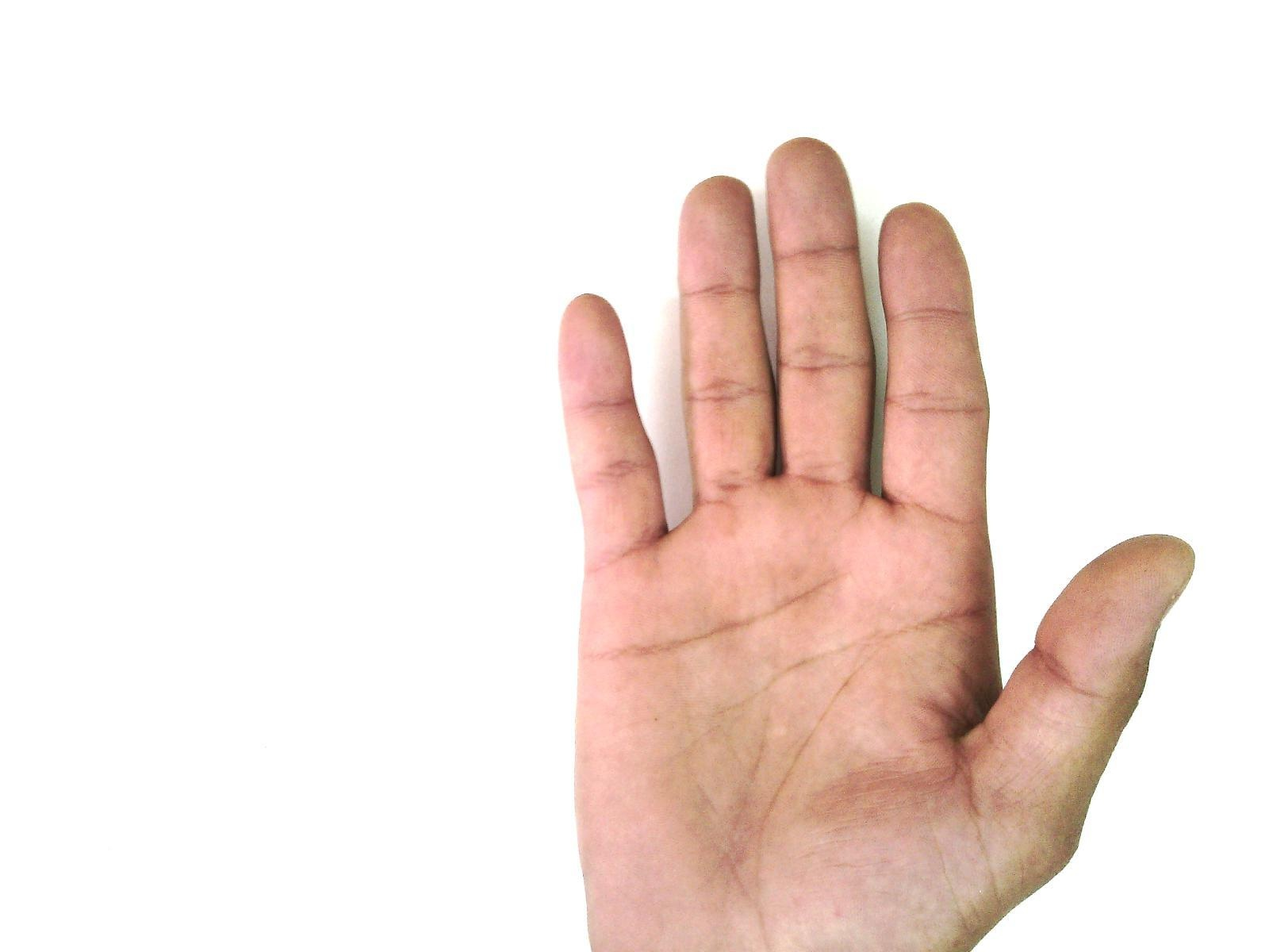open_palm: (553, 136, 1197, 951)
